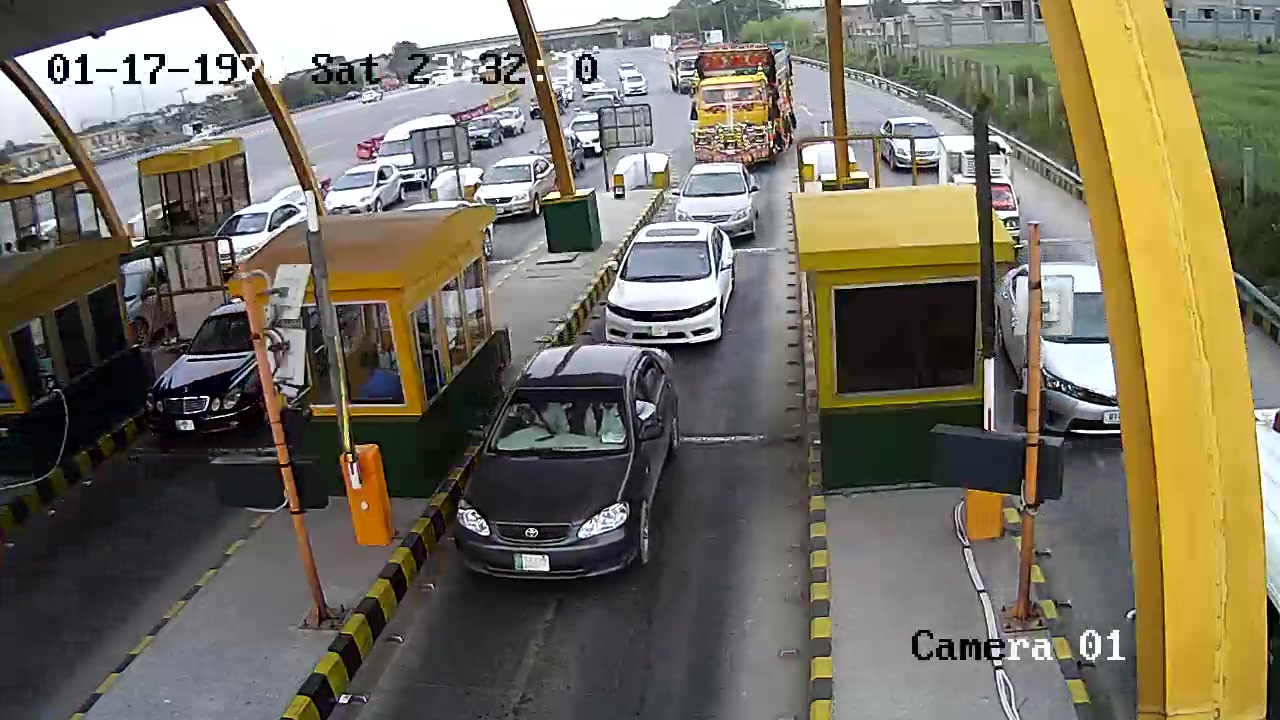F1: (451, 343, 698, 592), (591, 212, 752, 351)
